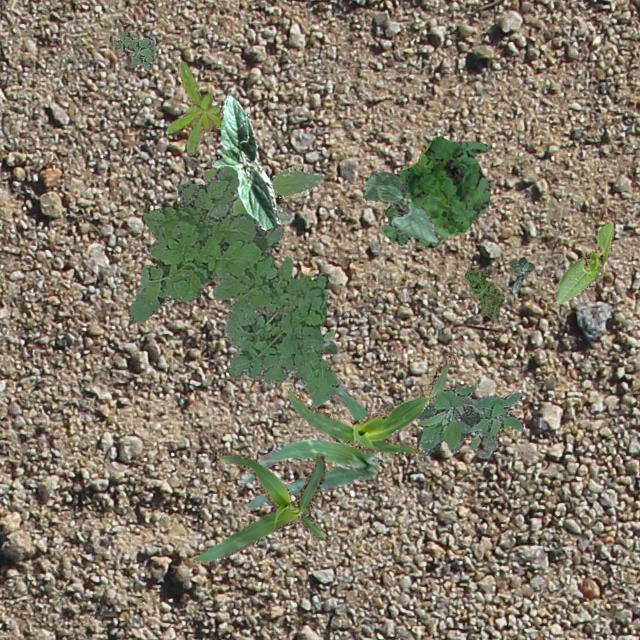crop: (240, 376, 378, 508), (286, 352, 456, 454), (190, 450, 326, 562), (210, 92, 278, 230), (362, 170, 438, 242), (554, 222, 612, 302)
weed: (126, 166, 338, 406), (380, 136, 490, 247), (378, 384, 522, 458), (202, 166, 324, 223), (166, 60, 222, 154), (464, 264, 504, 322), (111, 30, 156, 70), (508, 255, 534, 292), (316, 328, 336, 356)
